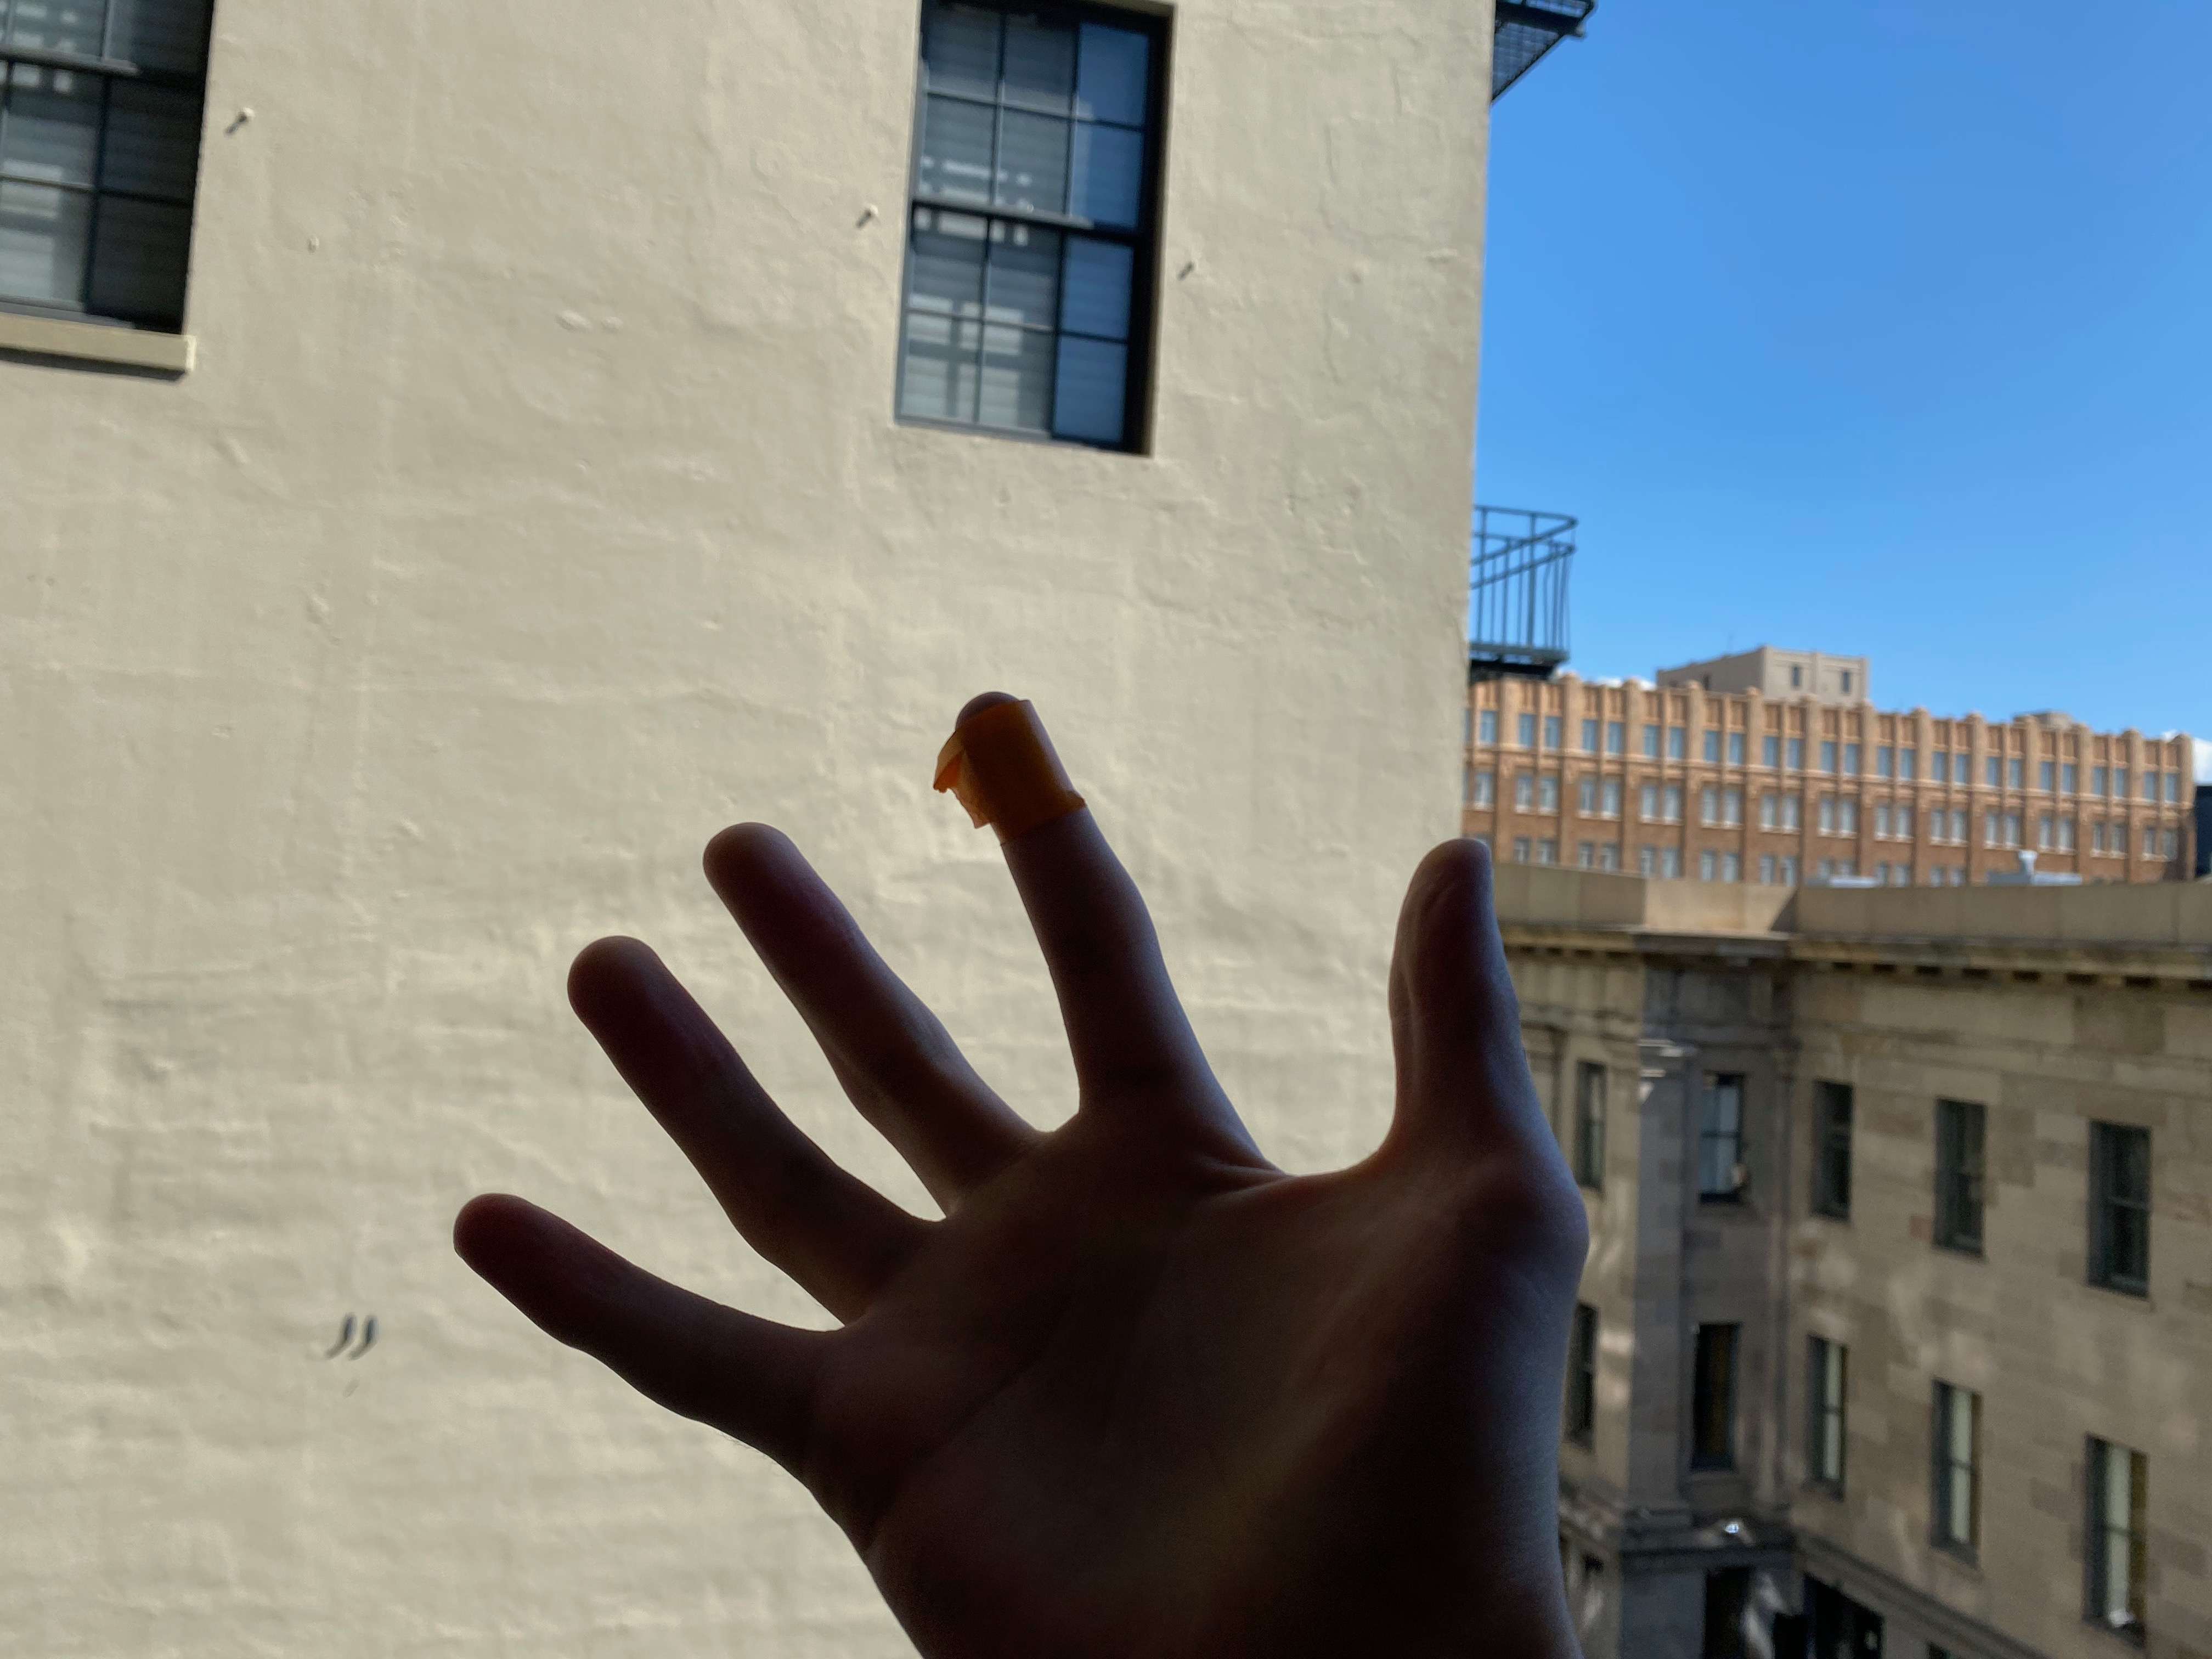fingertip: (923, 683, 1130, 843)
